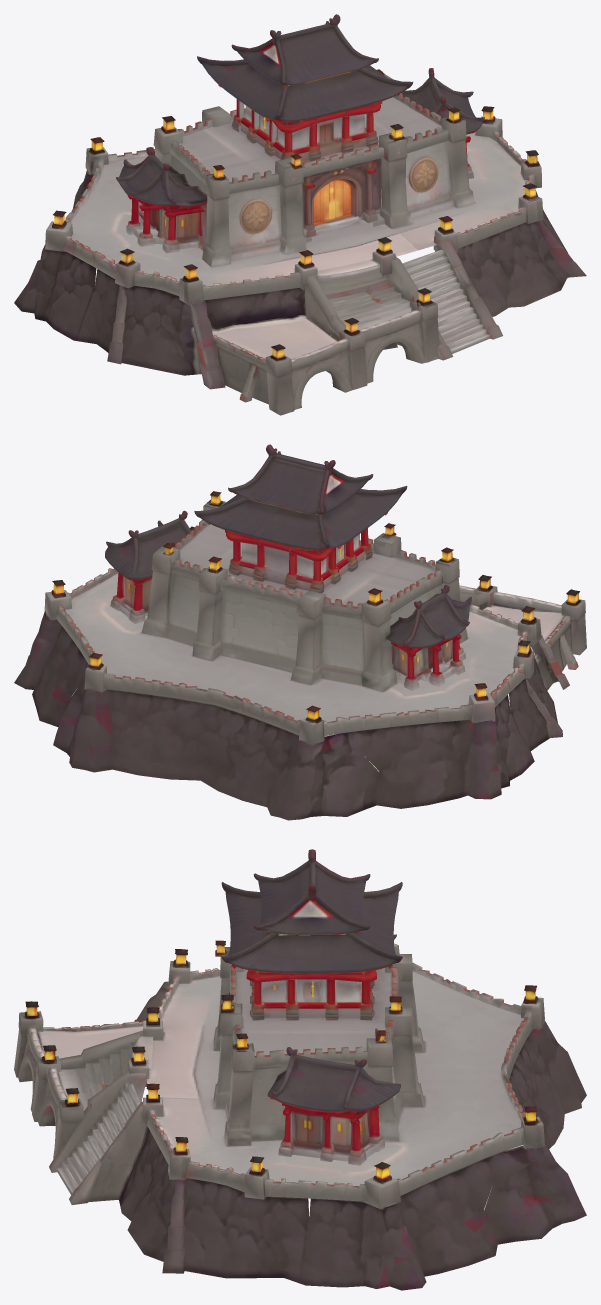
Rendered from SM_Tripo_ZhurongCustomsFort.glb.
3 views of the same model, one above another, from view 1: azimuth 30°, elevation 25°; view 2: azimuth 150°, elevation 25°; view 3: azimuth 270°, elevation 25° (orthographic). The views are drawn at different scales.
Visible parts, largest first — view 1: SM_Tripo_ZhurongCustomsFort_LOD0; view 2: SM_Tripo_ZhurongCustomsFort_LOD0; view 3: SM_Tripo_ZhurongCustomsFort_LOD0.
Boxes of the visible parts, x1,y1,x2,y2 form: SM_Tripo_ZhurongCustomsFort_LOD0: (14,14,586,415); SM_Tripo_ZhurongCustomsFort_LOD0: (14,444,586,820); SM_Tripo_ZhurongCustomsFort_LOD0: (14,849,586,1290).
Bounding box in the file's own units: 25.19 × 12.76 × 22.85.
1 material, 1 textured.
